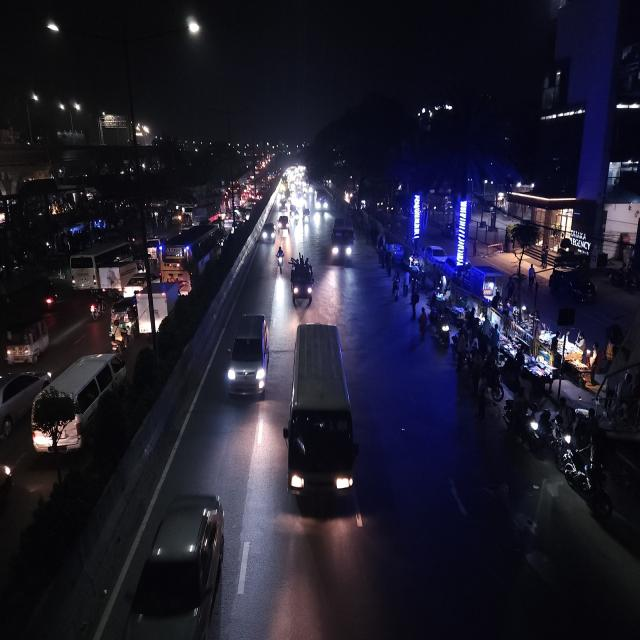bus: (285, 318, 358, 509), (161, 223, 222, 296), (328, 215, 355, 270), (70, 252, 98, 290), (314, 188, 330, 216)
car: (124, 487, 228, 640), (64, 346, 128, 414), (224, 310, 270, 404), (0, 364, 54, 417), (122, 272, 146, 296), (424, 243, 447, 268), (260, 220, 278, 245), (278, 214, 290, 232), (278, 199, 289, 214), (223, 214, 233, 230), (241, 208, 251, 223)
cng: (4, 310, 53, 364), (110, 296, 140, 332)
motorcycle: (87, 289, 105, 324), (111, 324, 130, 352), (276, 245, 285, 274)
pedestrian: (416, 305, 430, 342), (408, 283, 421, 320), (391, 274, 401, 302), (402, 272, 411, 299)
pickup_van: (290, 256, 314, 310)
